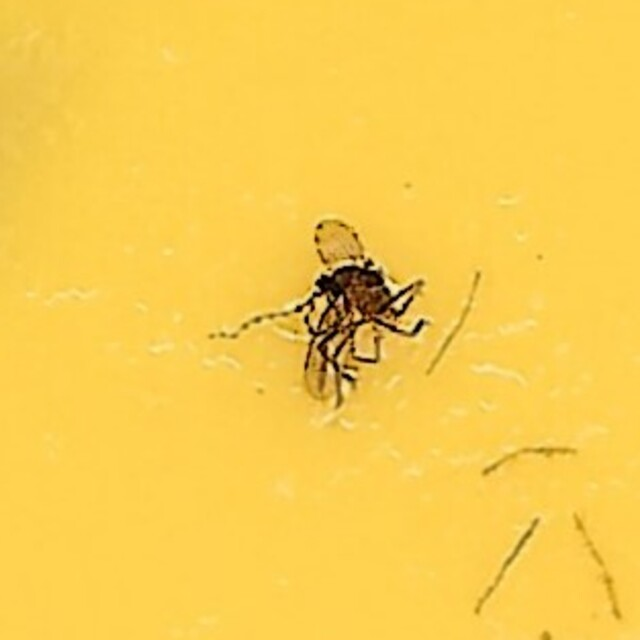Nematocera: (204, 220, 436, 420)
